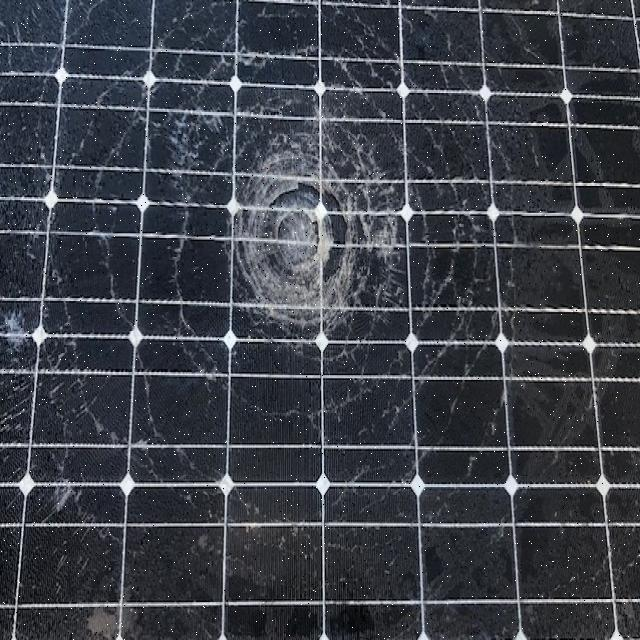physical damage: (133, 70, 469, 386)
